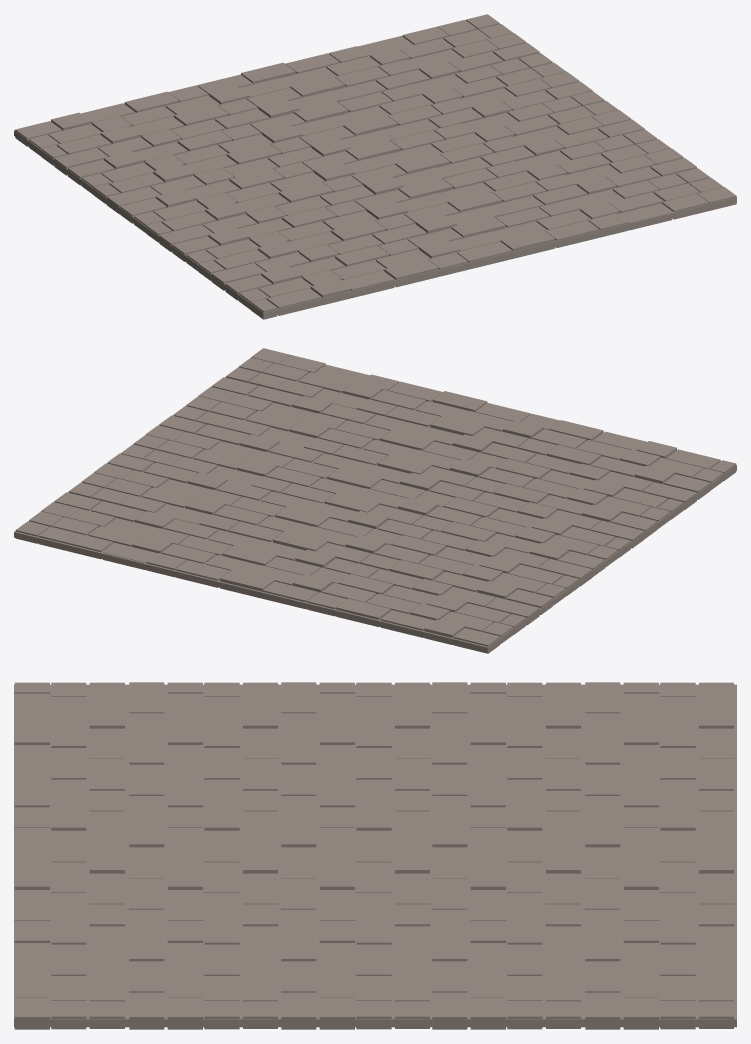
File: floor_4.obj
3 renders of one model, top to bottom at view 1: azimuth 30°, elevation 25°; view 2: azimuth 150°, elevation 25°; view 3: azimuth 270°, elevation 25°, orthographic. The views are drawn at different scales.
Parts seen in each view (by area): view 1: floor_4; view 2: floor_4; view 3: floor_4.
Boxes of the visible parts, x1=… form: floor_4: x1=14, y1=14, x2=736, y2=319; floor_4: x1=14, y1=348, x2=736, y2=653; floor_4: x1=14, y1=682, x2=736, y2=1029.
Size of the model in its own units: 1.53 by 0.0317 by 1.4.
